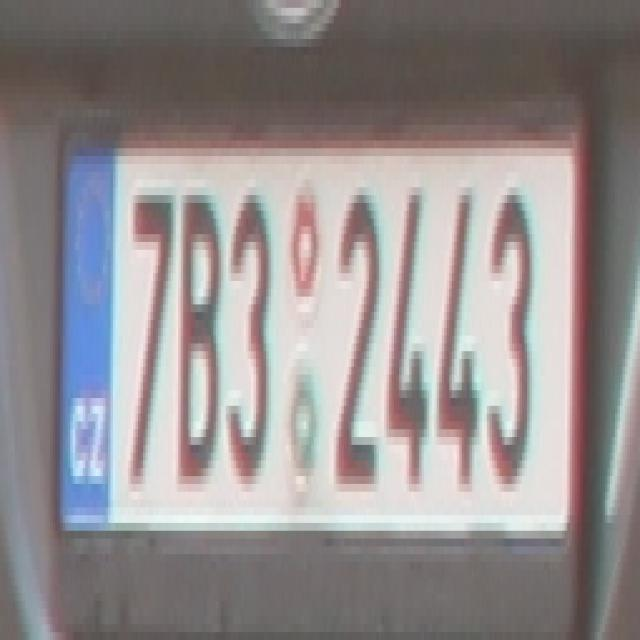2: (334, 179, 379, 492)
3: (224, 180, 274, 500), (486, 172, 530, 484)
4: (384, 187, 429, 492), (434, 172, 477, 484)
7: (125, 187, 168, 492)
B: (176, 179, 223, 492)
